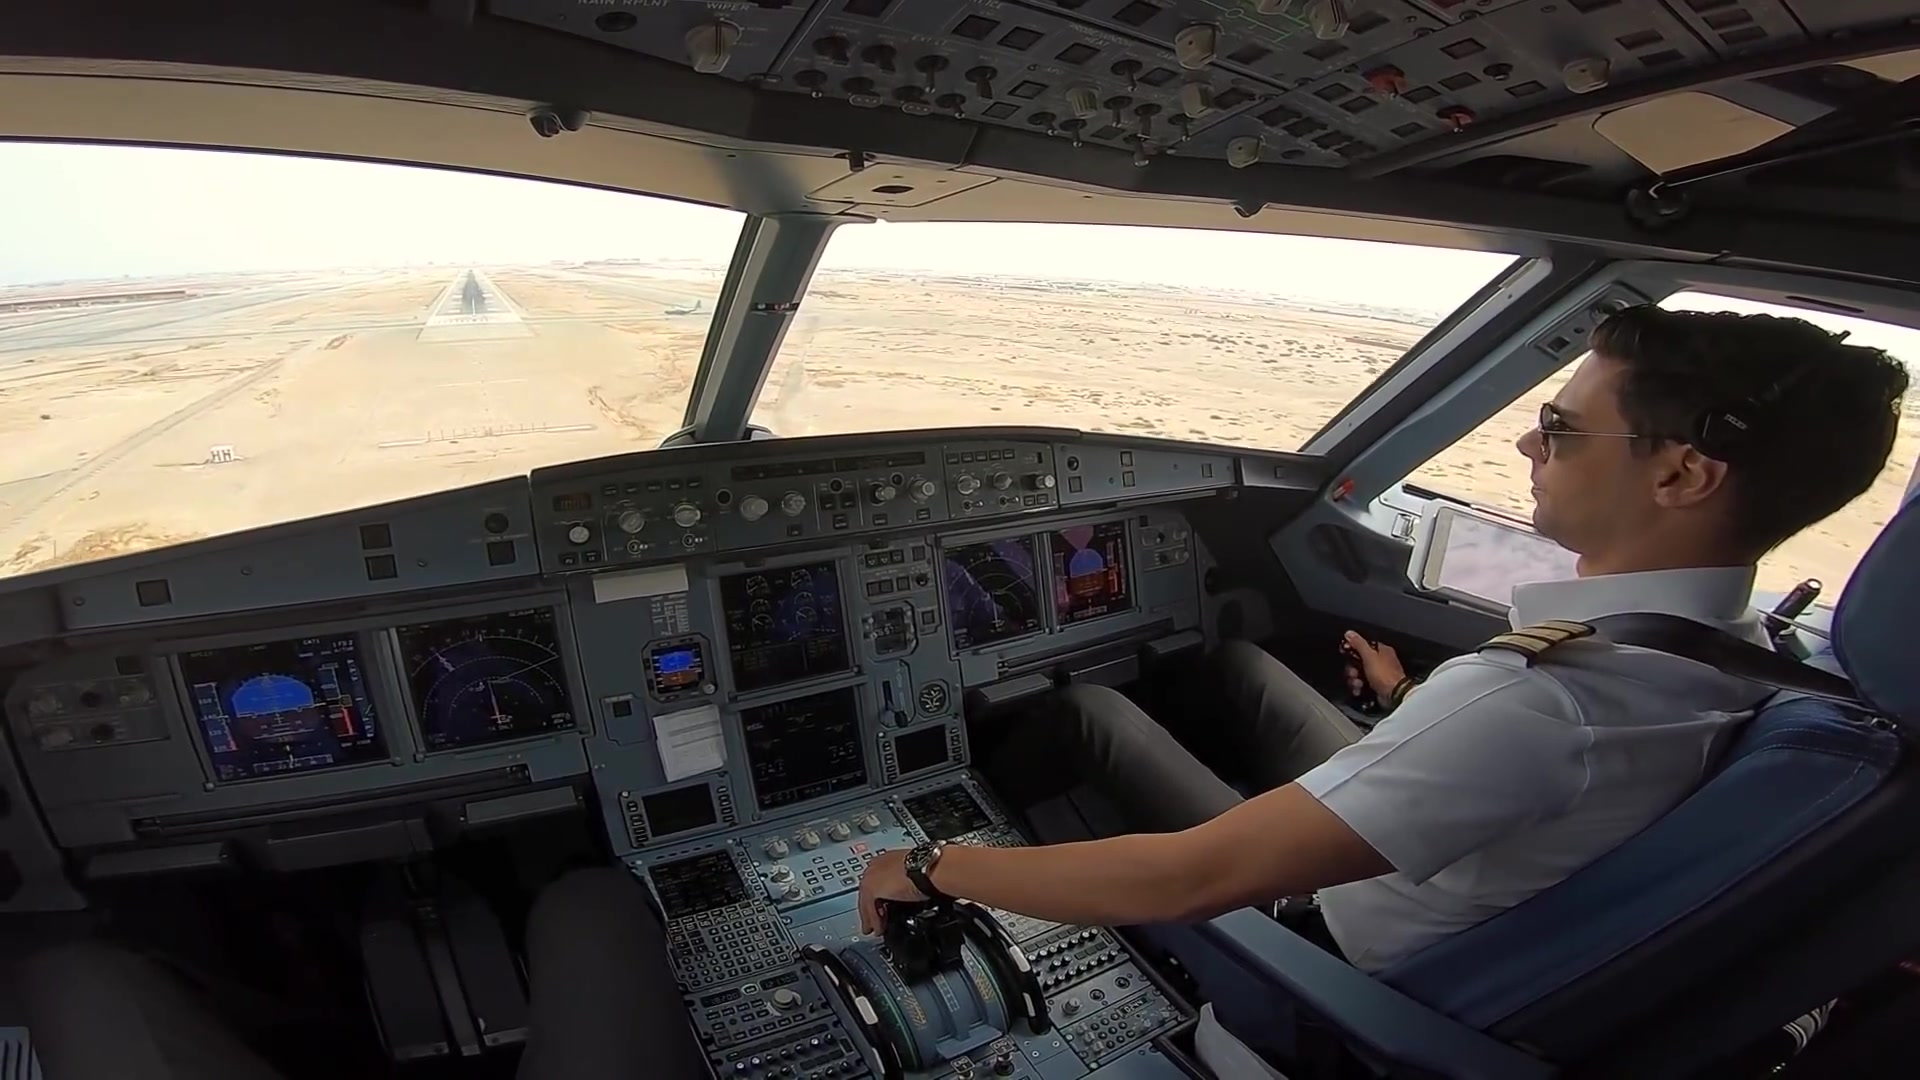entrance: (426, 315, 521, 324)
runway: (417, 266, 524, 328)
